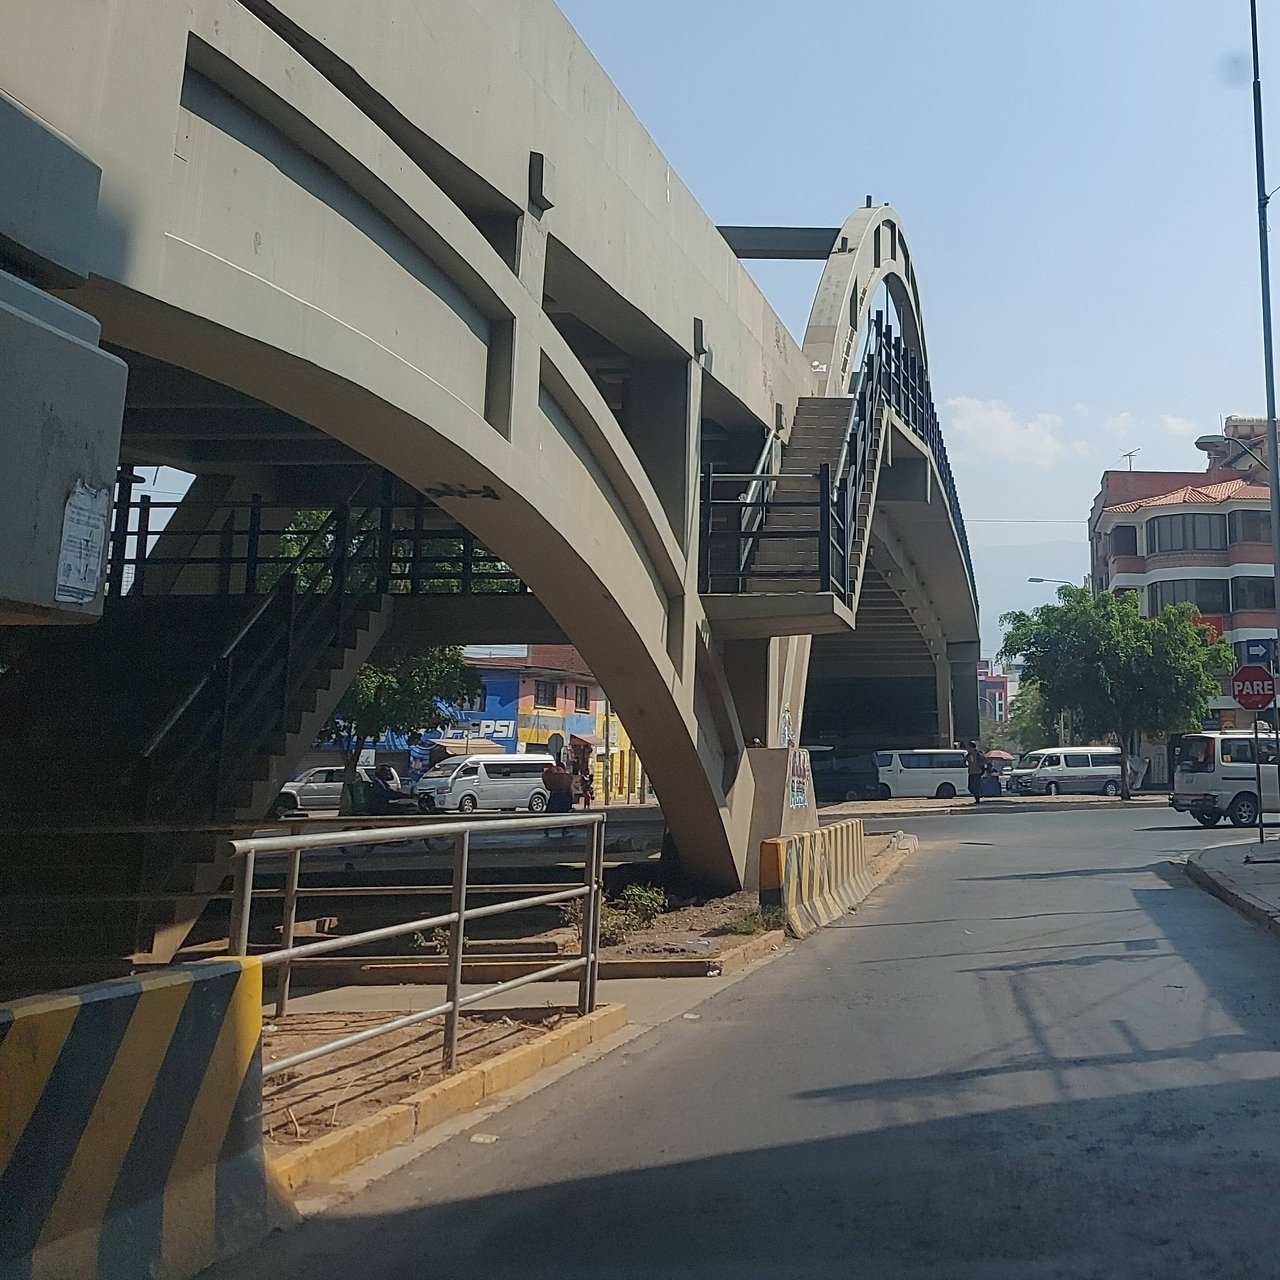pare: (1231, 663, 1280, 712)
